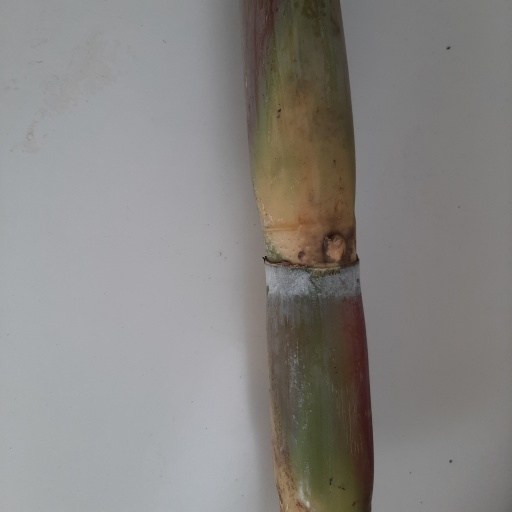Bud: (321, 232, 348, 265)
